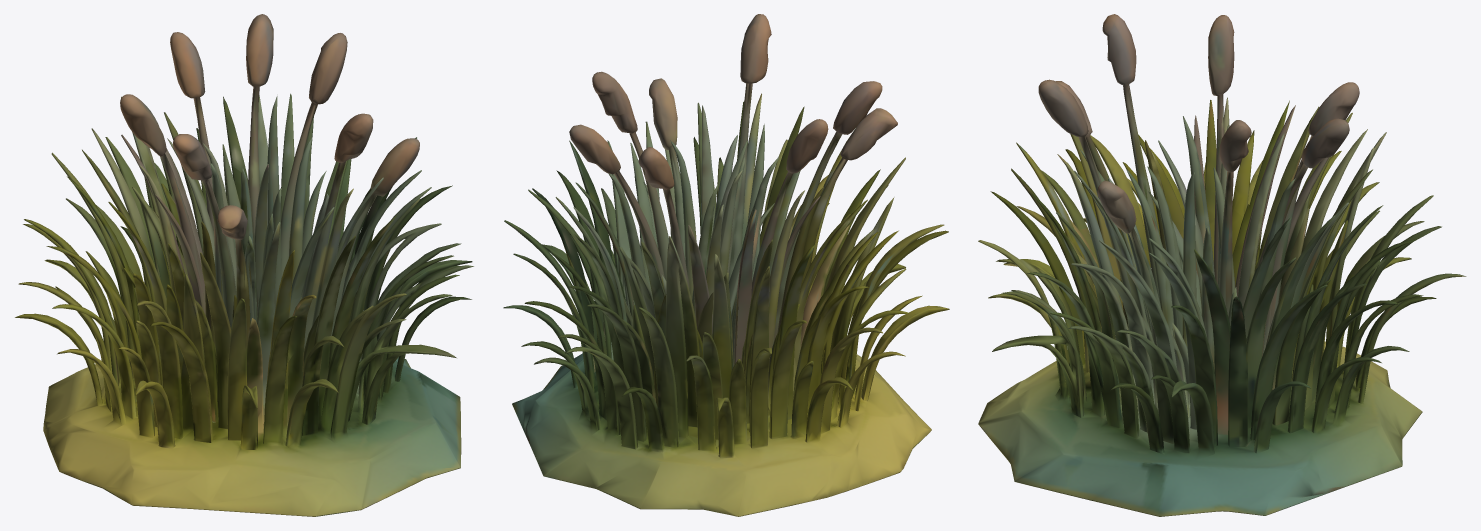
File: reeds.fbx
3 views of the same model, side by side, from view 1: azimuth 30°, elevation 25°; view 2: azimuth 150°, elevation 25°; view 3: azimuth 270°, elevation 25° (orthographic). The views are drawn at different scales.
Parts seen in each view (by area): view 1: reeds; view 2: reeds; view 3: reeds.
Boxes of the visible parts, bbox=[...] form: reeds: bbox=[15, 14, 473, 516]; reeds: bbox=[503, 14, 949, 516]; reeds: bbox=[978, 14, 1466, 516].
Size of the model in its own units: 43.48 by 36.97 by 45.13.
Materials: 1 (1 with a texture image).
